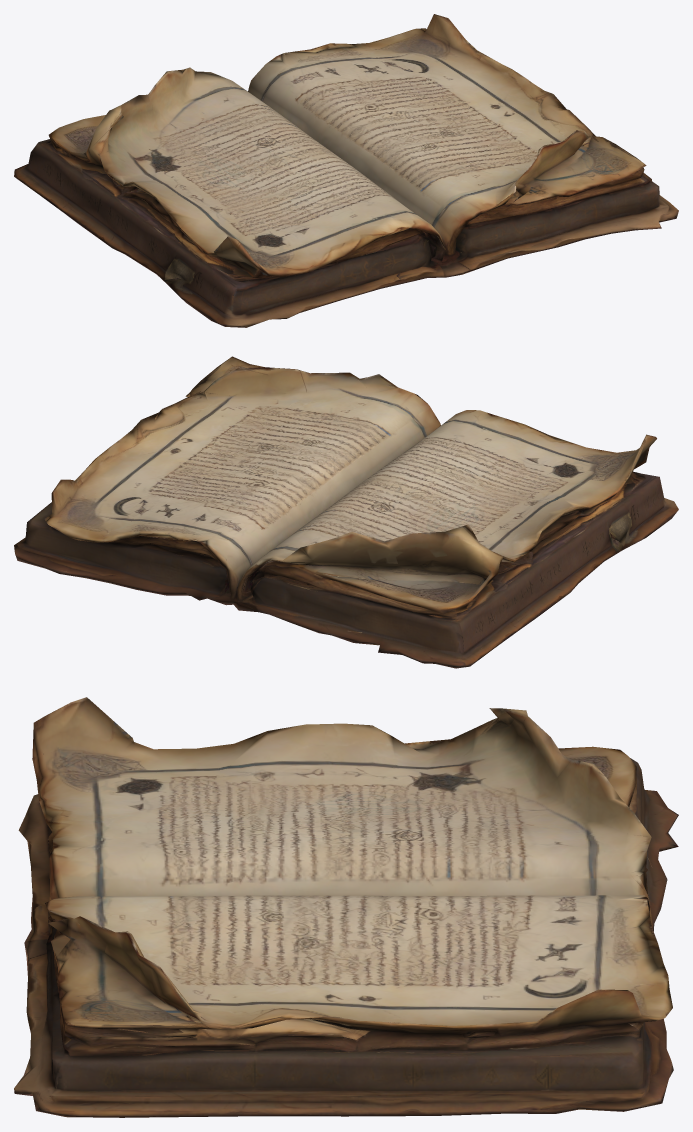
File: Pages of Power.fbx
3 views of the same model, one above another, from view 1: azimuth 30°, elevation 25°; view 2: azimuth 150°, elevation 25°; view 3: azimuth 270°, elevation 25° (orthographic). The views are drawn at different scales.
Parts seen in each view (by area): view 1: Mesh1.0; view 2: Mesh1.0; view 3: Mesh1.0.
Boxes of the visible parts, x1,y1,x2,y2 form: Mesh1.0: (14,14,678,327); Mesh1.0: (14,356,678,668); Mesh1.0: (14,697,678,1117).
Bounding box in the file's own units: 549 × 100 × 471.
1 material, 1 textured.
